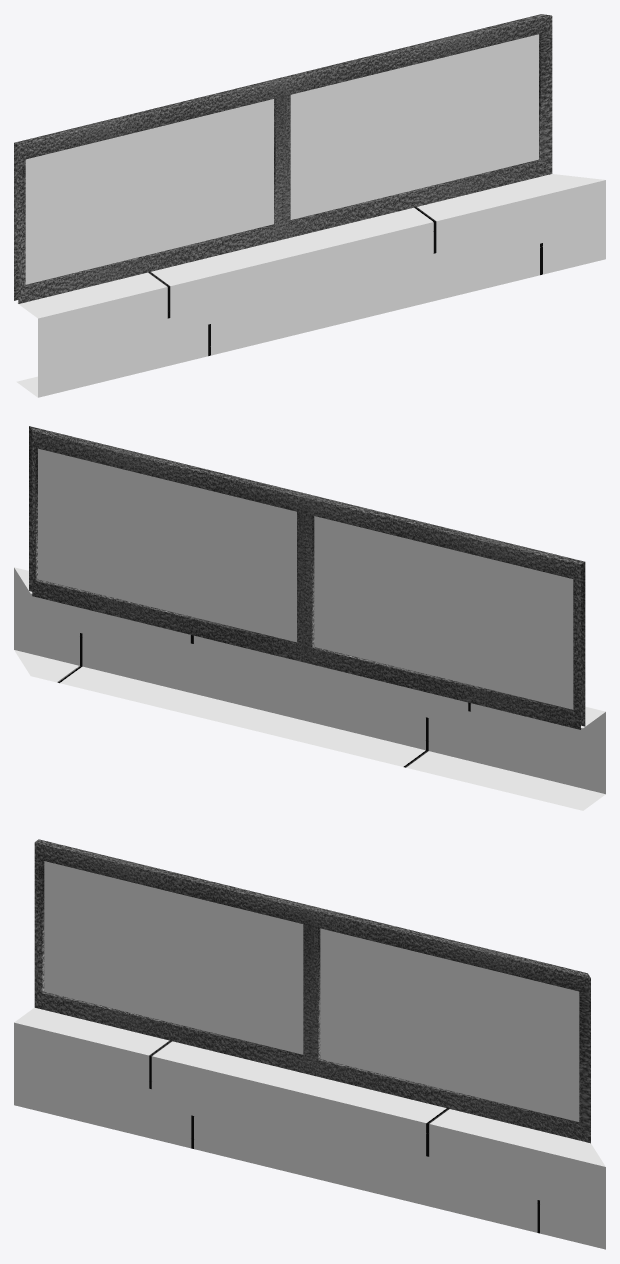
The model's file is Parapet02_350cmAngle3.FBX.
3 views of the same model, one above another, from view 1: azimuth 30°, elevation 25°; view 2: azimuth 150°, elevation 25°; view 3: azimuth 330°, elevation 25° (orthographic). The views are drawn at different scales.
Parts seen in each view (by area): view 1: Parapet02_350cmAngle3; view 2: Parapet02_350cmAngle3; view 3: Parapet02_350cmAngle3.
Boxes of the visible parts, <box> form: Parapet02_350cmAngle3: <box>14,14,605,397</box>; Parapet02_350cmAngle3: <box>14,426,605,810</box>; Parapet02_350cmAngle3: <box>14,839,605,1249</box>.
Size of the model in its own units: 375 by 150 by 27.5.
